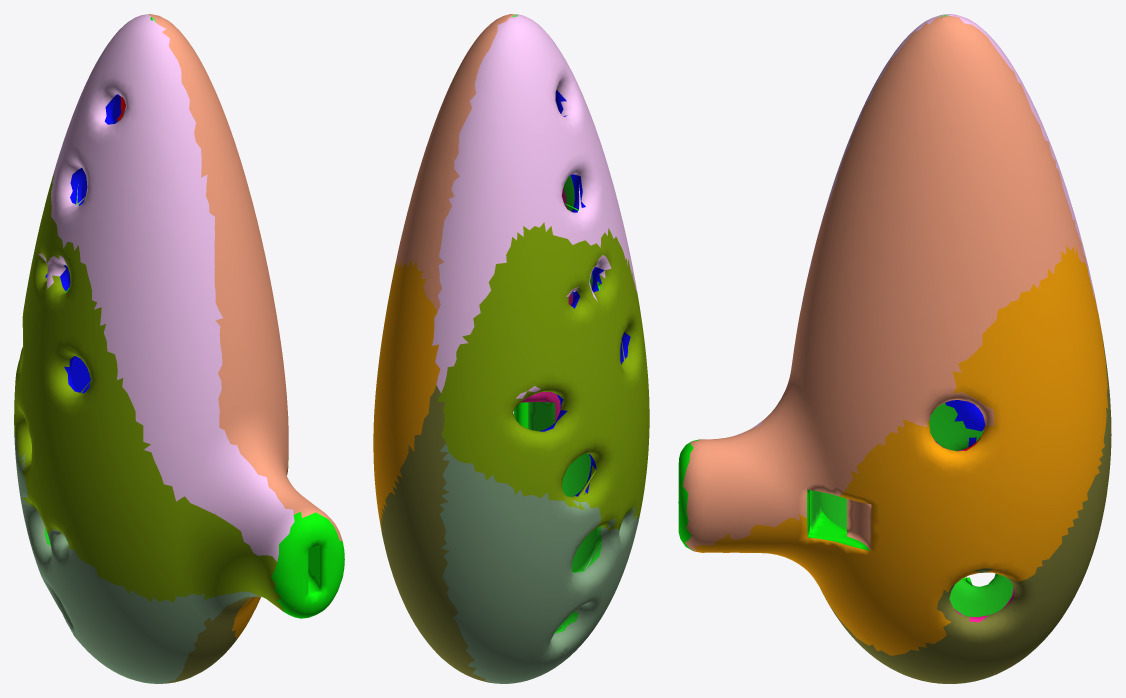
File: model_41_segmented_new.obj
3 views of the same model, side by side, from view 1: azimuth 30°, elevation 25°; view 2: azimuth 150°, elevation 25°; view 3: azimuth 270°, elevation 25° (orthographic).
Size of the model in its own units: 47.99 by 135 by 80.12.
